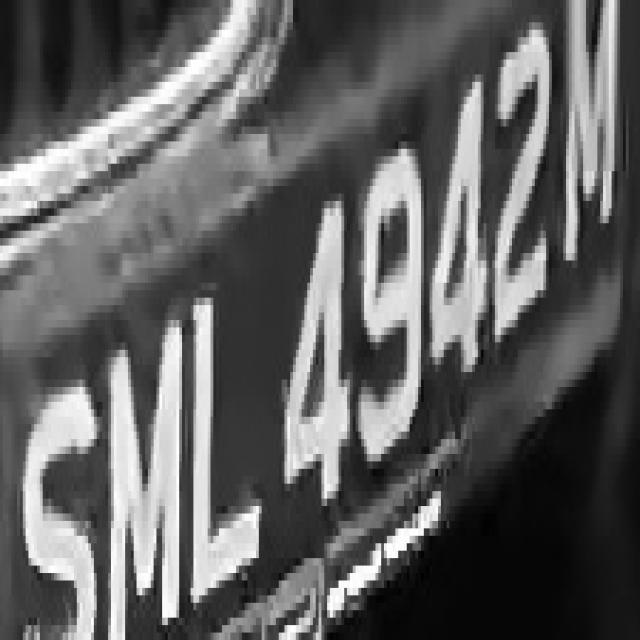2: (489, 22, 558, 335)
4: (276, 201, 367, 513), (418, 67, 498, 394)
9: (350, 156, 432, 469)
L: (190, 253, 268, 610)
M: (563, 8, 626, 260), (0, 4, 1, 8)
S: (17, 350, 94, 640)
